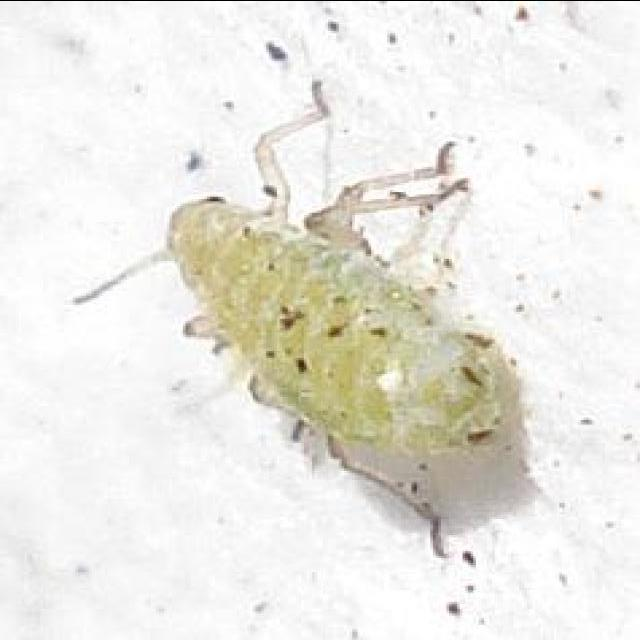aphid: (100, 62, 564, 585)
